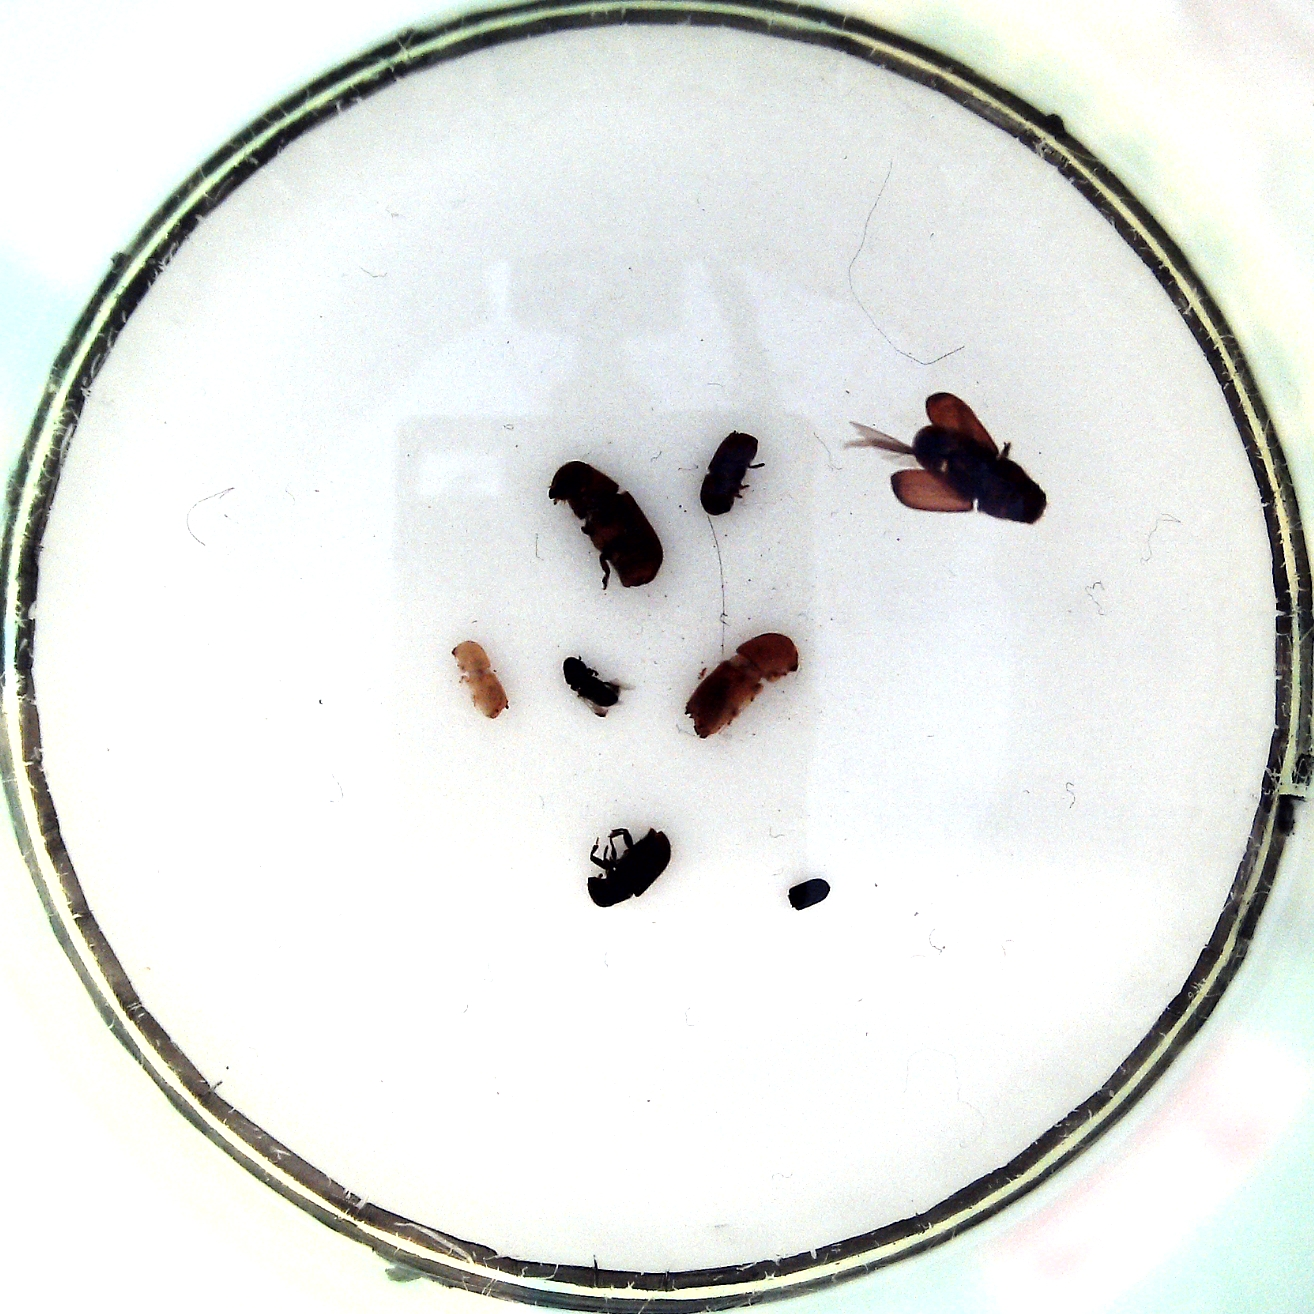Boerner: (677, 627, 807, 742)
Leconte: (837, 386, 1056, 529), (544, 457, 667, 594)
Linnaeus: (697, 424, 770, 522)
acuminatus: (449, 634, 515, 722)
armandi: (582, 817, 671, 912)
coleoptera: (560, 650, 638, 720), (785, 874, 839, 916)
